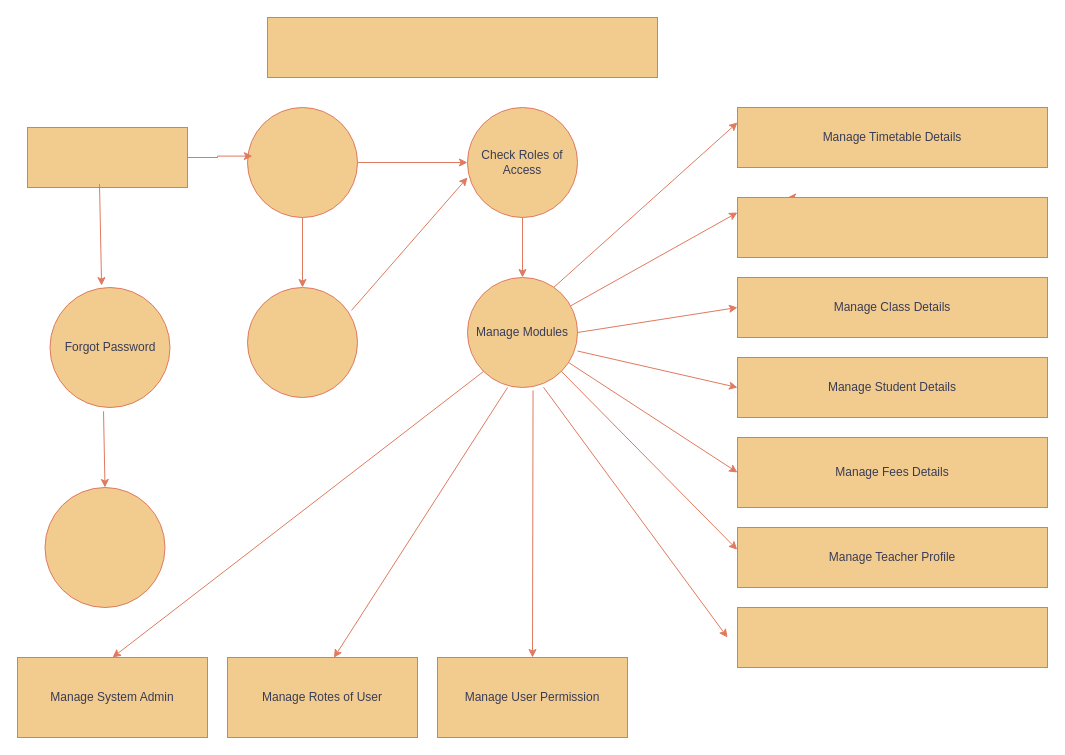
Image size: 1065x755. Some labels were removed from this diagram. The shapes that lost their labels are listed below. From the top down, each one's box as (x1, y1, x2, y2) in pixels, then its label:
(266, 16, 658, 78): Student Information System
(26, 126, 188, 188): Admin
(246, 106, 358, 218): Login to System
(736, 196, 1048, 258): Manage Attendence Details
(246, 286, 358, 398): Check Credentials
(44, 486, 165, 608): Send Email to User
